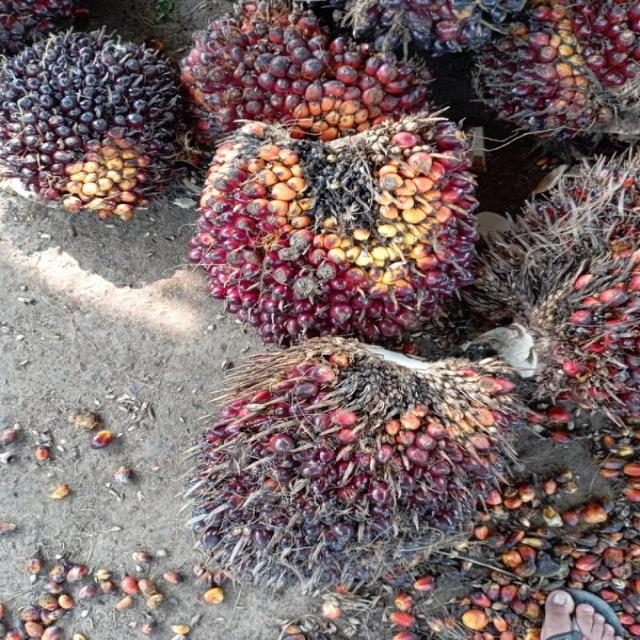fraksi 00: (0, 15, 200, 228)
fraksi 1: (201, 345, 512, 590), (183, 117, 492, 346), (181, 2, 424, 144)
